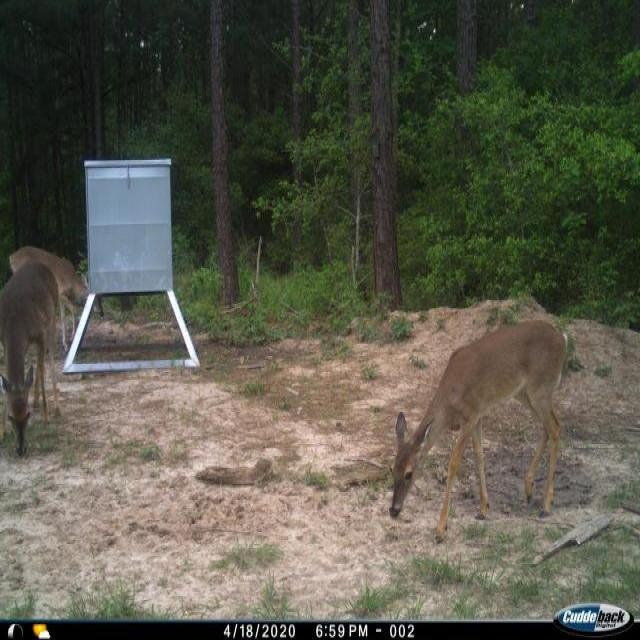deer: (380, 315, 576, 545), (2, 242, 112, 354), (4, 261, 58, 459)
